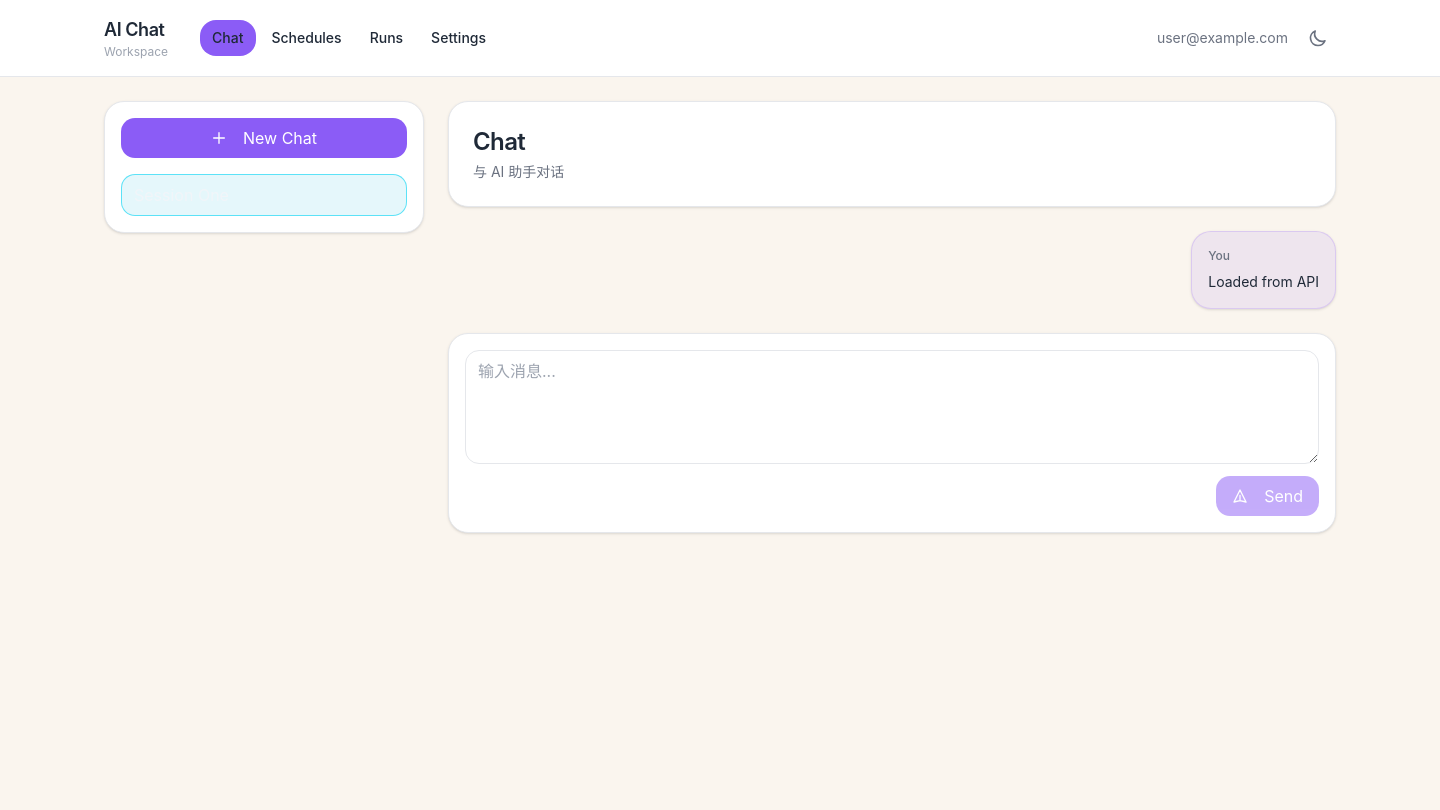
ChatPage › clears current messages when starting a new chat
Check: the text "Loaded from API" is shown, box [1208,272,1319,292]
Click the button "New Chat".
click(264, 138)  # box [121,118,407,158]
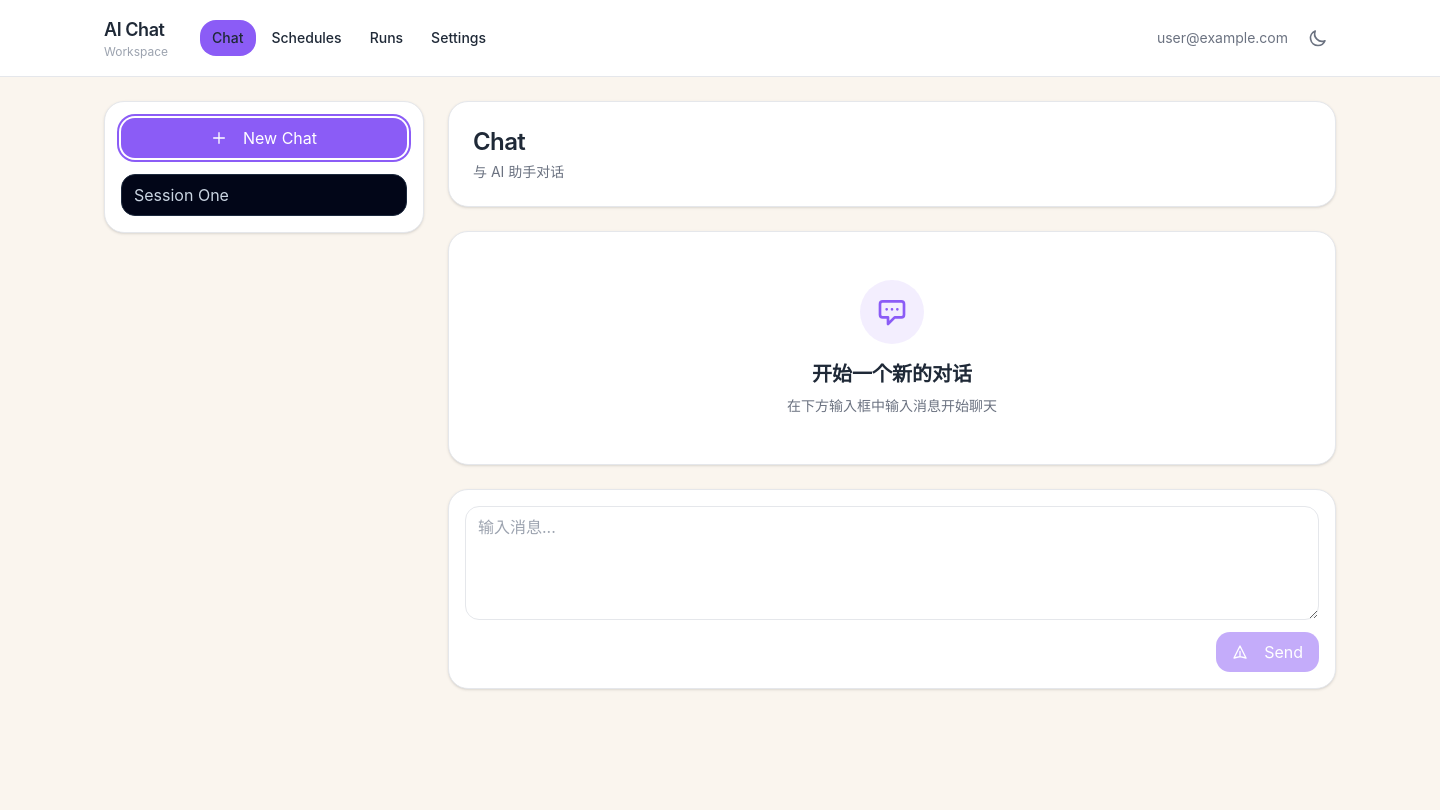
Check: the text "Loaded from API" is gone
Check: the heading "开始一个新的对话" is shown, box [812,360,972,388]
